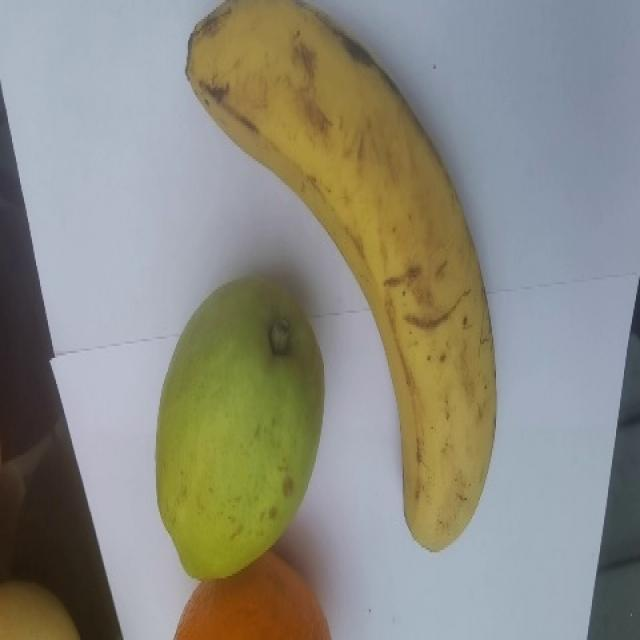Banana: (183, 0, 500, 554)
Orange: (168, 540, 337, 640)
